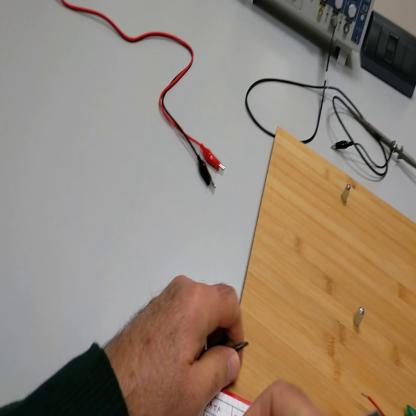hand: (101, 272, 244, 416), (245, 376, 320, 413)
high voltage board: (361, 394, 416, 416)
oscilloscope: (242, 1, 376, 67)
oscilloscope probe tip: (349, 108, 416, 167)
register: (201, 389, 252, 416)
working area: (233, 126, 416, 414)
